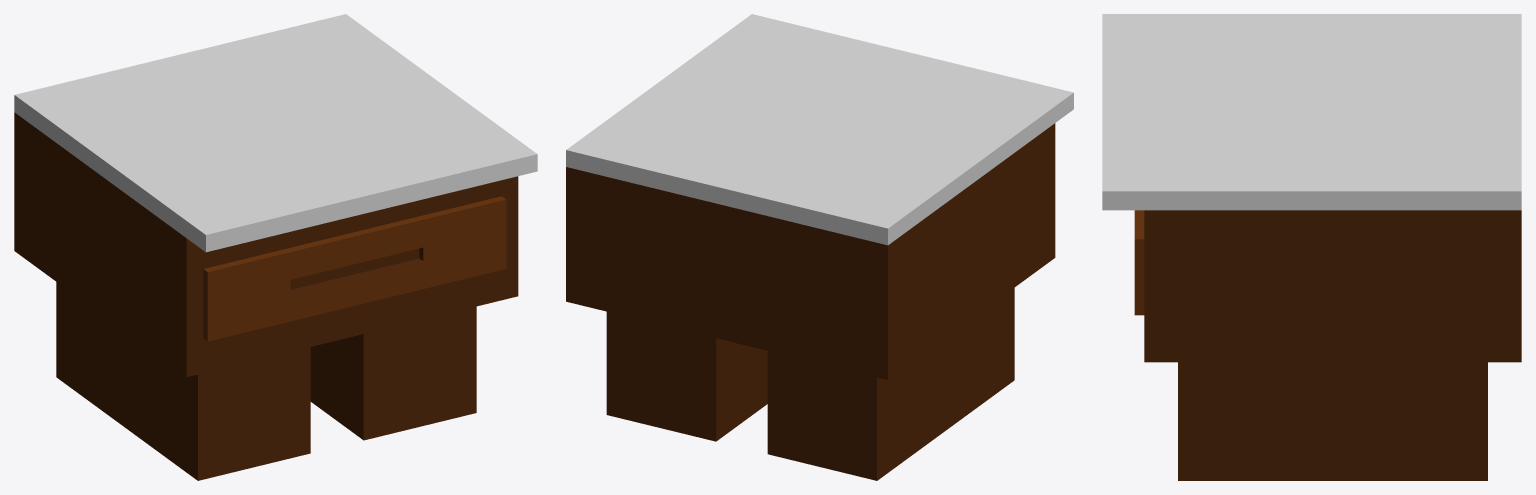
File: Counter_Redone.fbx
3 renders of one model, left to right at view 1: azimuth 30°, elevation 25°; view 2: azimuth 150°, elevation 25°; view 3: azimuth 270°, elevation 25°, orthographic. The views are drawn at different scales.
Parts seen in each view (by area): view 1: Box001; view 2: Box001; view 3: Box001.
Part boxes in pixels (x1,y1,x2,y2): Box001: (14,14,537,480); Box001: (566,14,1073,480); Box001: (1102,14,1521,480).
Size of the model in its own units: 39.37 by 31.5 by 39.37.
